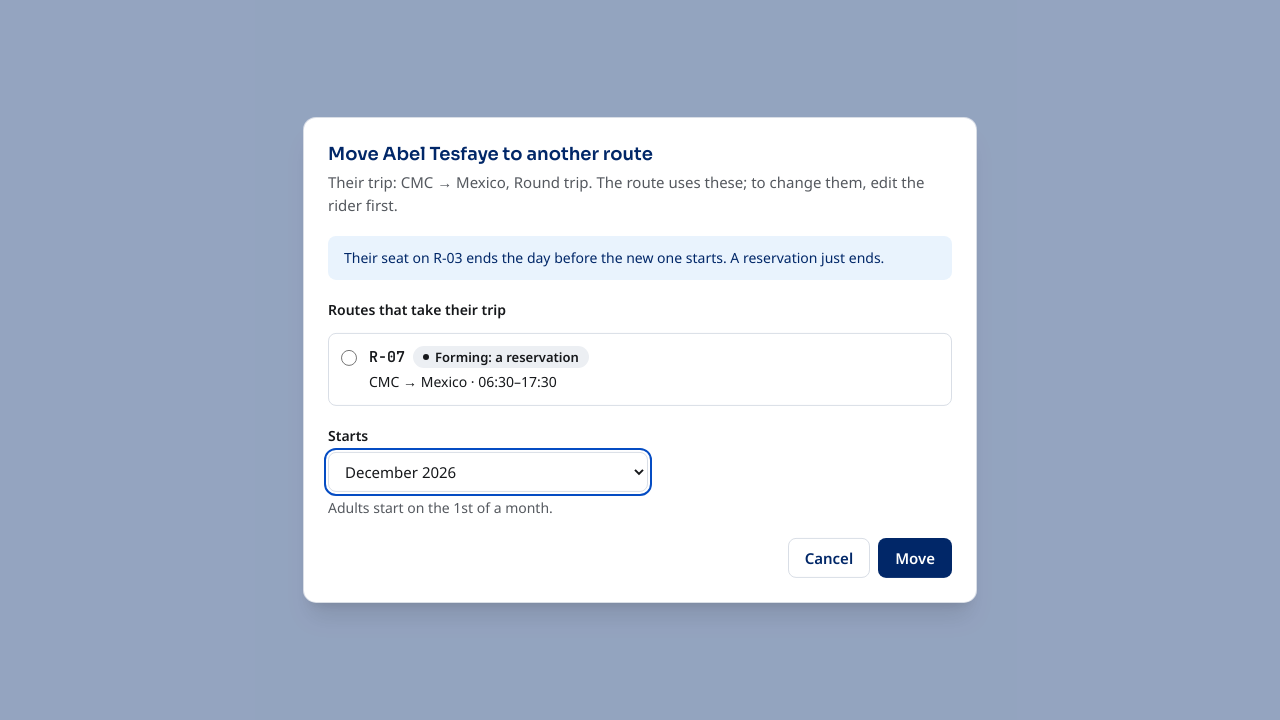
it: PlaceSeatDialog › explains a route that doesn't take them on the routes
Step 1. Click the radio button labelled "R-07 Forming: a reservation CMC → Mexico · 06:30–17:30" → (349, 358), box [341,350,357,366]
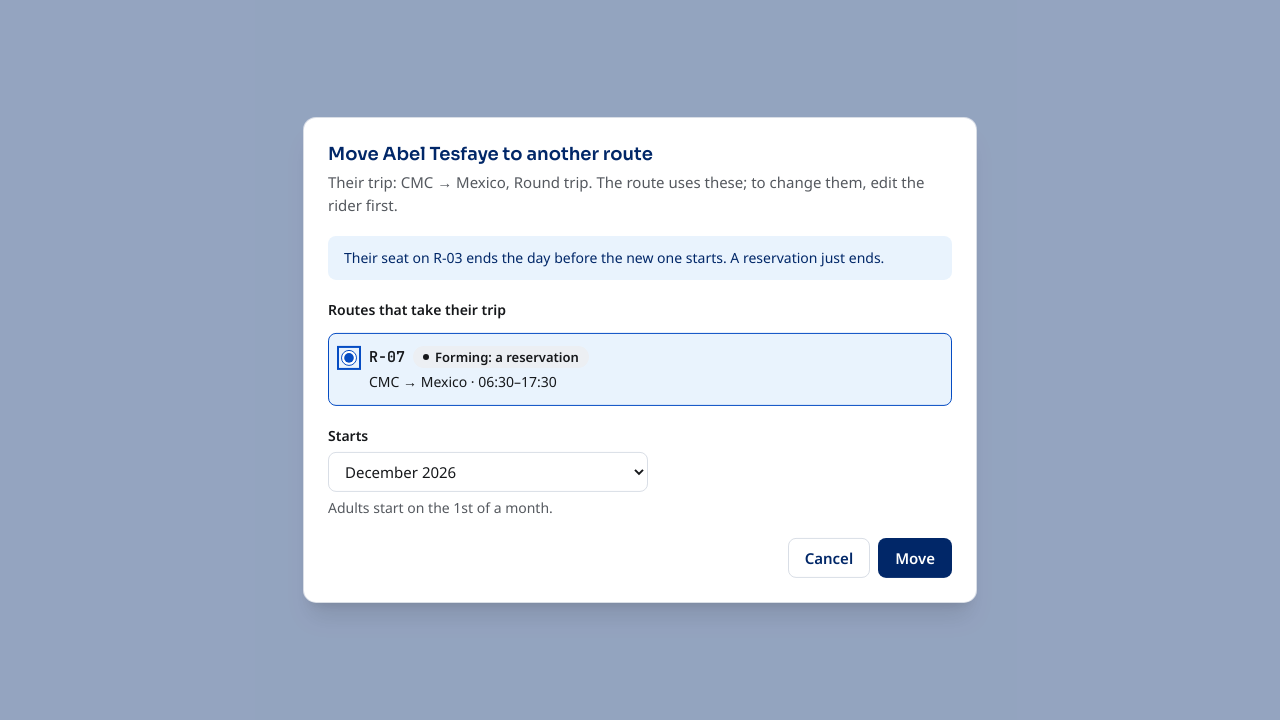
Step 2. Click the button "Move" → (915, 558), box [878,538,952,578]
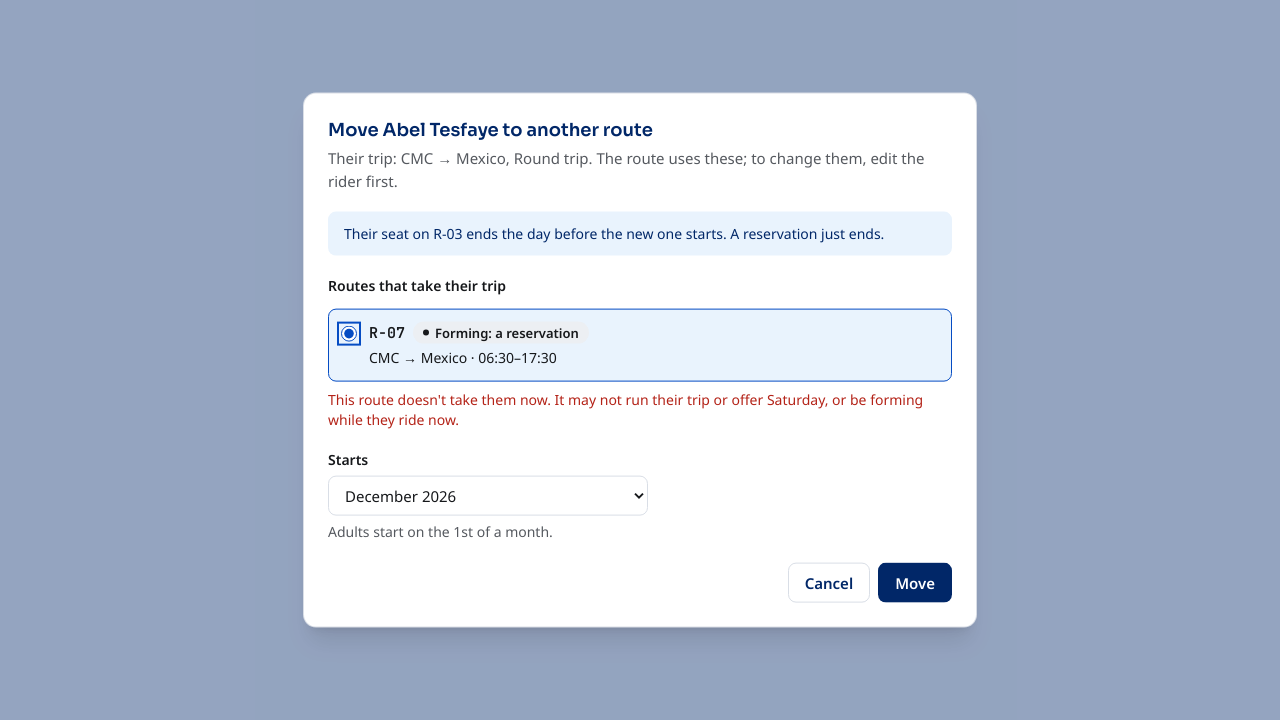
Expected: the text "This route doesn't take them now. It may not run their trip or offer Saturday, or be forming while they ride now." is shown, [328,389,923,428]
